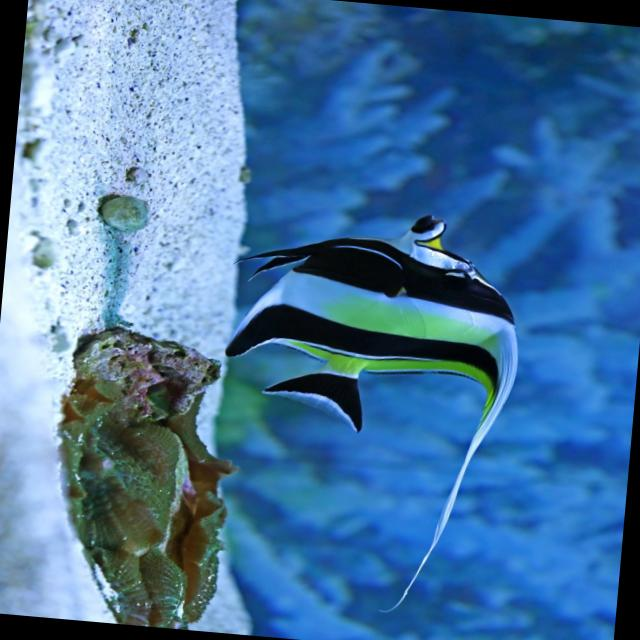MorishIdol: (200, 197, 530, 622)
